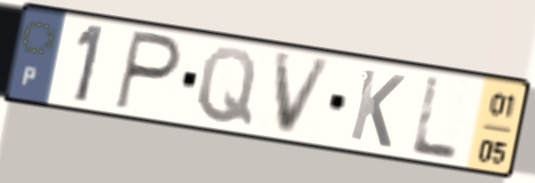1: (72, 22, 107, 107)
K: (345, 65, 408, 152)
L: (407, 73, 461, 163)
P: (111, 26, 185, 115)
Q: (194, 45, 260, 130)
V: (271, 50, 337, 138)
